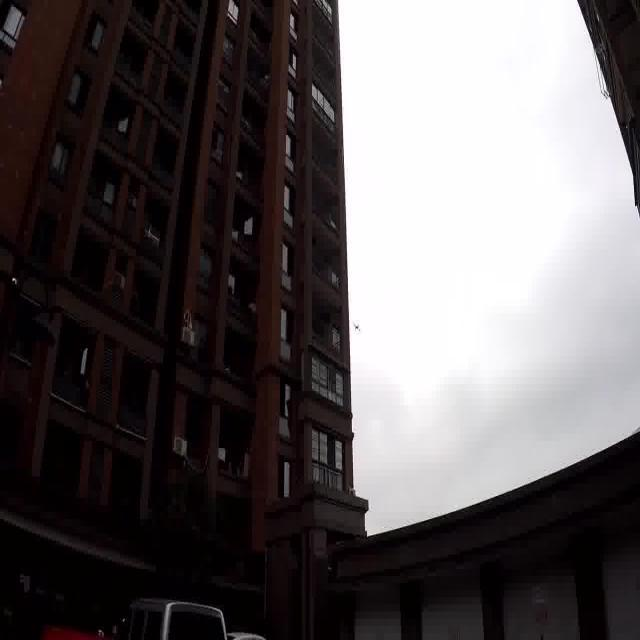drone: (352, 316, 364, 338)
